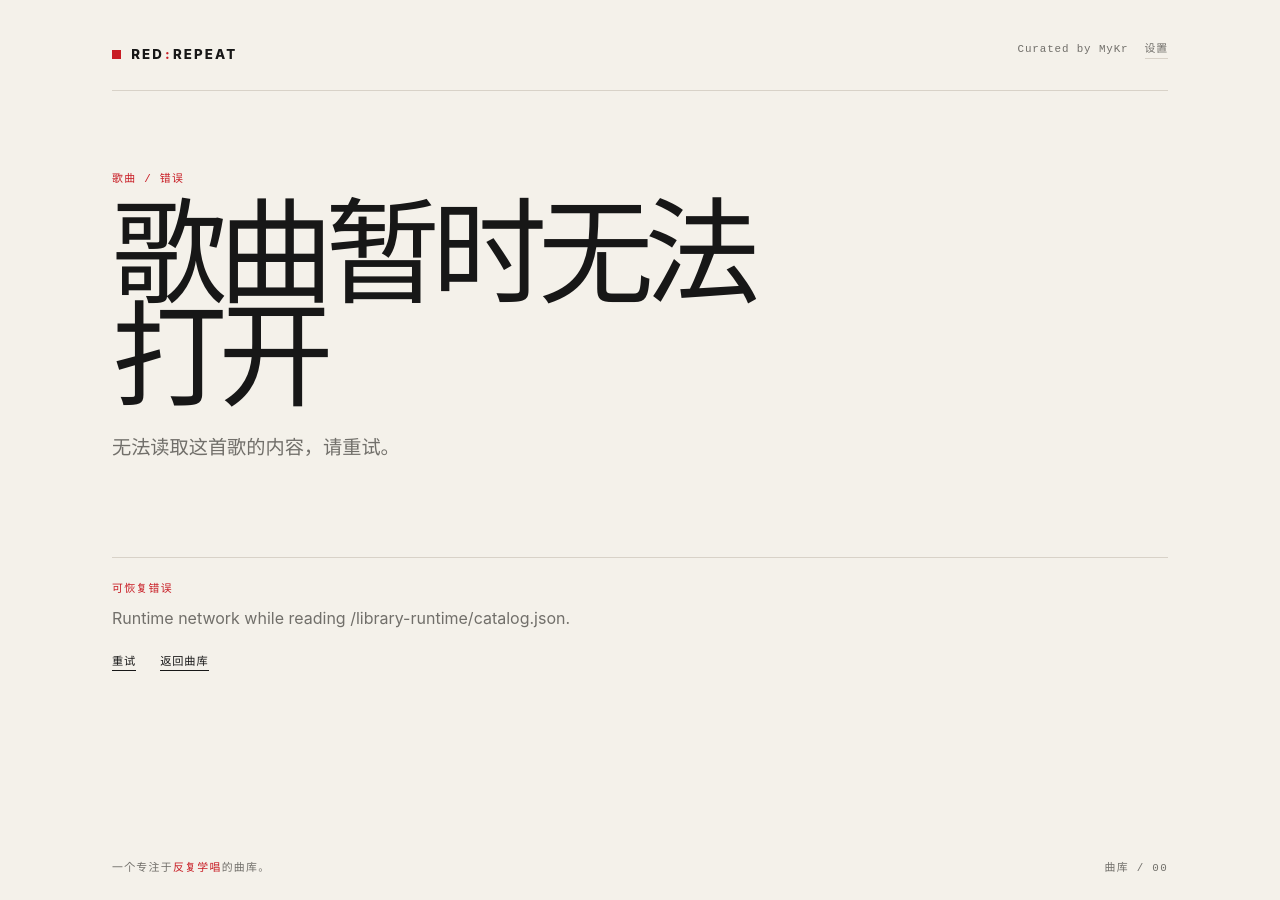
Scenario: App Library consumer › keeps a direct edition route recoverable when the catalog fails
expect the message named "歌曲错误" shows "Runtime network while reading /library-runtime/catalog.json.": met, box [112,608,570,628]
Click the button "重试".
click(124, 662)  # box [112,654,136,671]
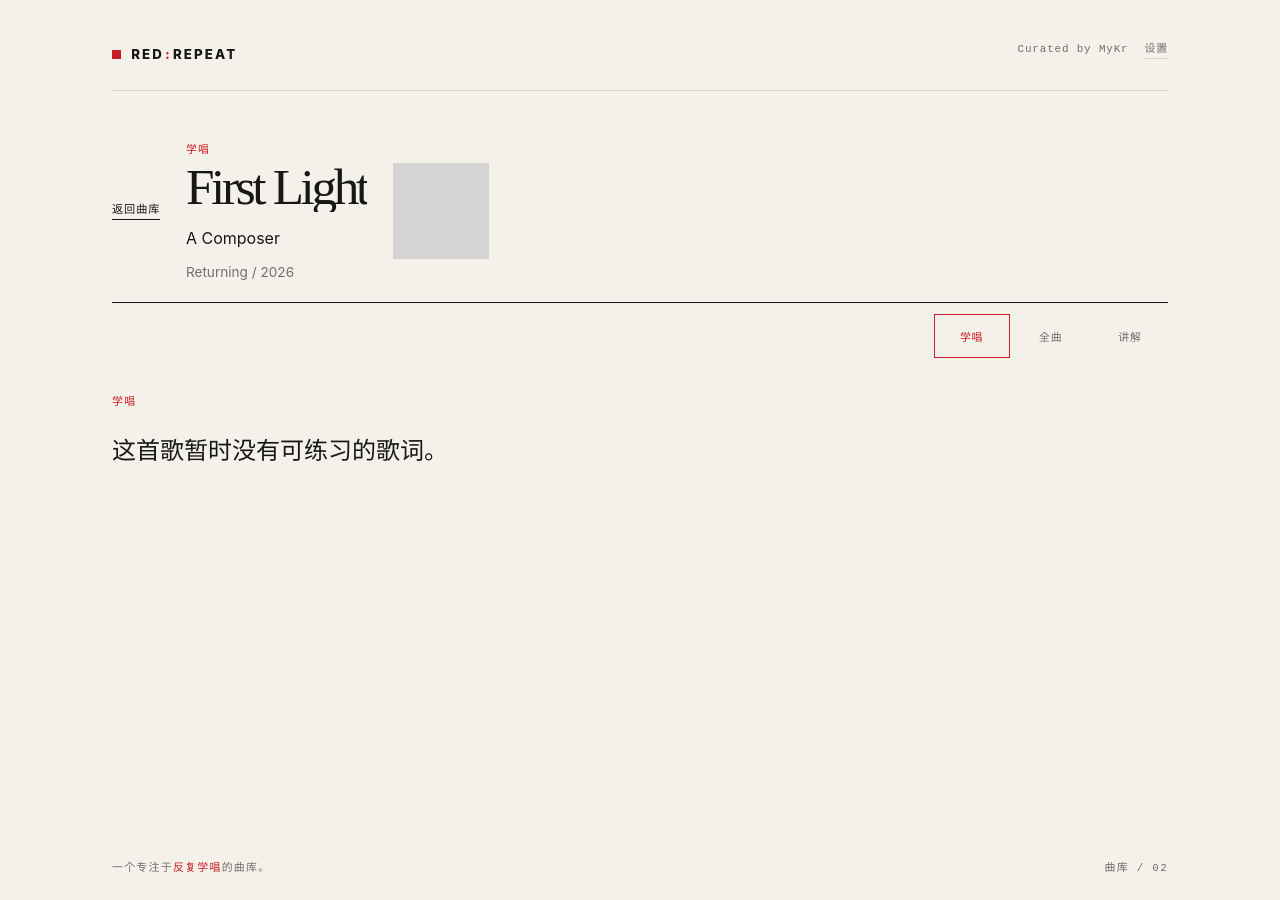
expect the heading "First Light" is shown: met, box [186,163,367,212]
